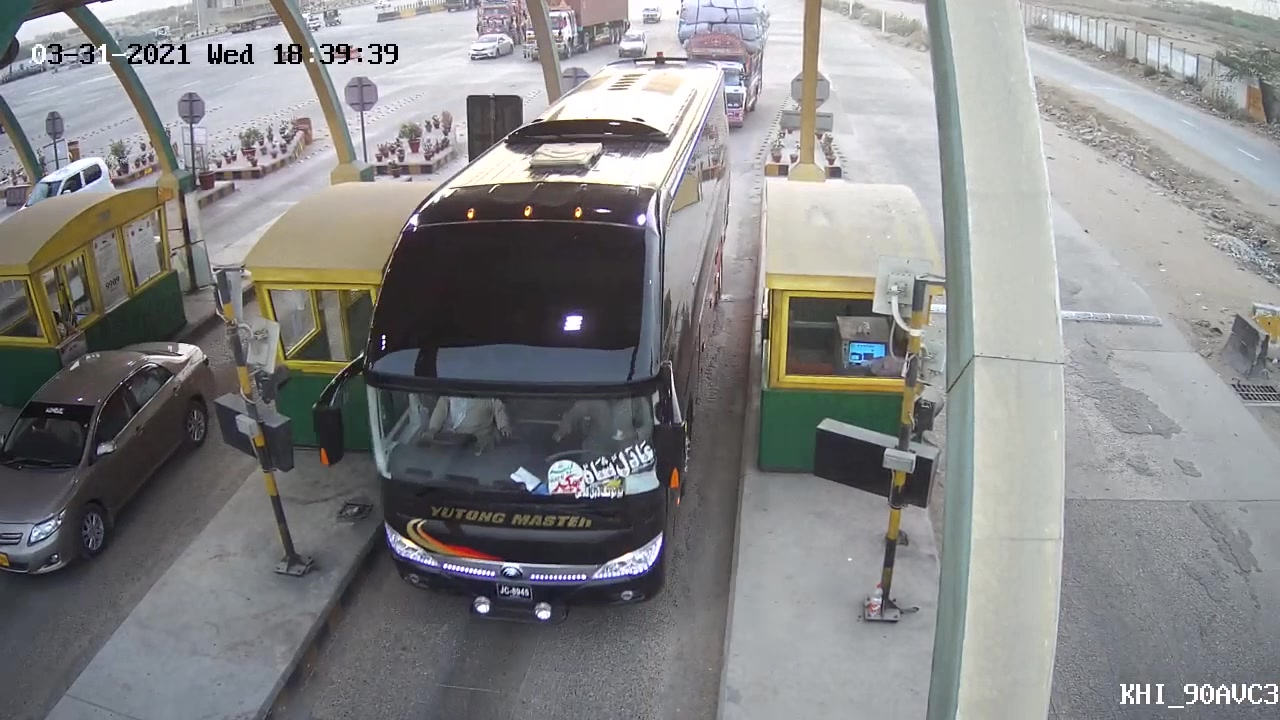F4: (341, 45, 738, 624)
